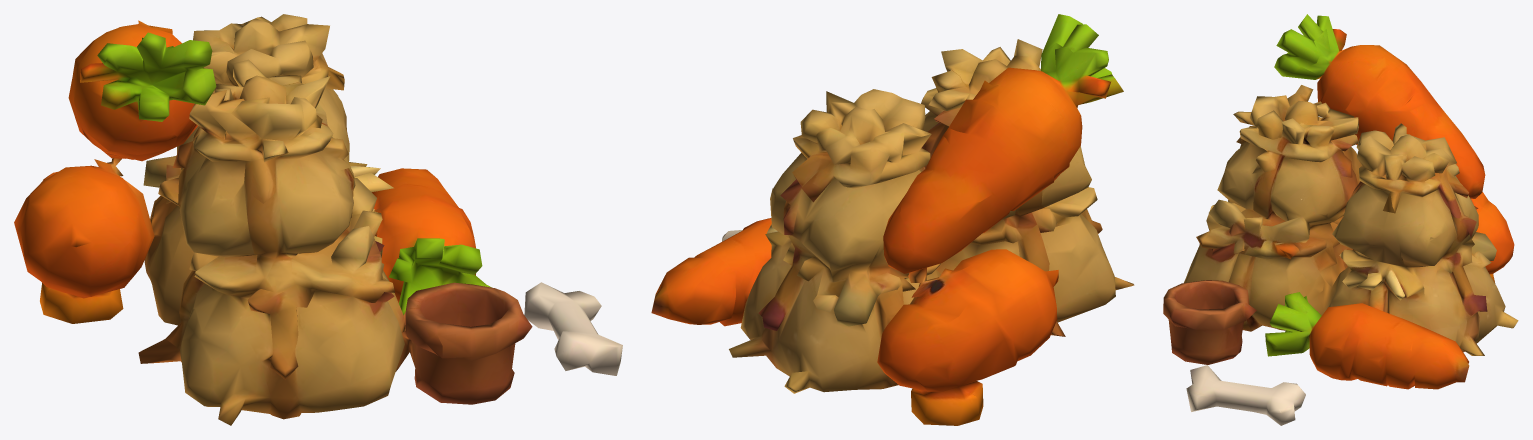
File: feed_sacks-CHFpqaxz.glb
3 views of the same model, side by side, from view 1: azimuth 30°, elevation 25°; view 2: azimuth 150°, elevation 25°; view 3: azimuth 270°, elevation 25° (orthographic). The views are drawn at different scales.
Parts seen in each view (by area): view 1: tripo_node_cb57fac2-8f9b-4162-88f0-778807272b90; view 2: tripo_node_cb57fac2-8f9b-4162-88f0-778807272b90; view 3: tripo_node_cb57fac2-8f9b-4162-88f0-778807272b90.
Boxes of the visible parts, left/top/right/bottom form: tripo_node_cb57fac2-8f9b-4162-88f0-778807272b90: left=14, top=14, right=622, bottom=425; tripo_node_cb57fac2-8f9b-4162-88f0-778807272b90: left=651, top=14, right=1134, bottom=425; tripo_node_cb57fac2-8f9b-4162-88f0-778807272b90: left=1163, top=14, right=1518, bottom=425.
Bounding box in the file's own units: 1 × 0.7623 × 0.9212.
1 material, 1 textured.
